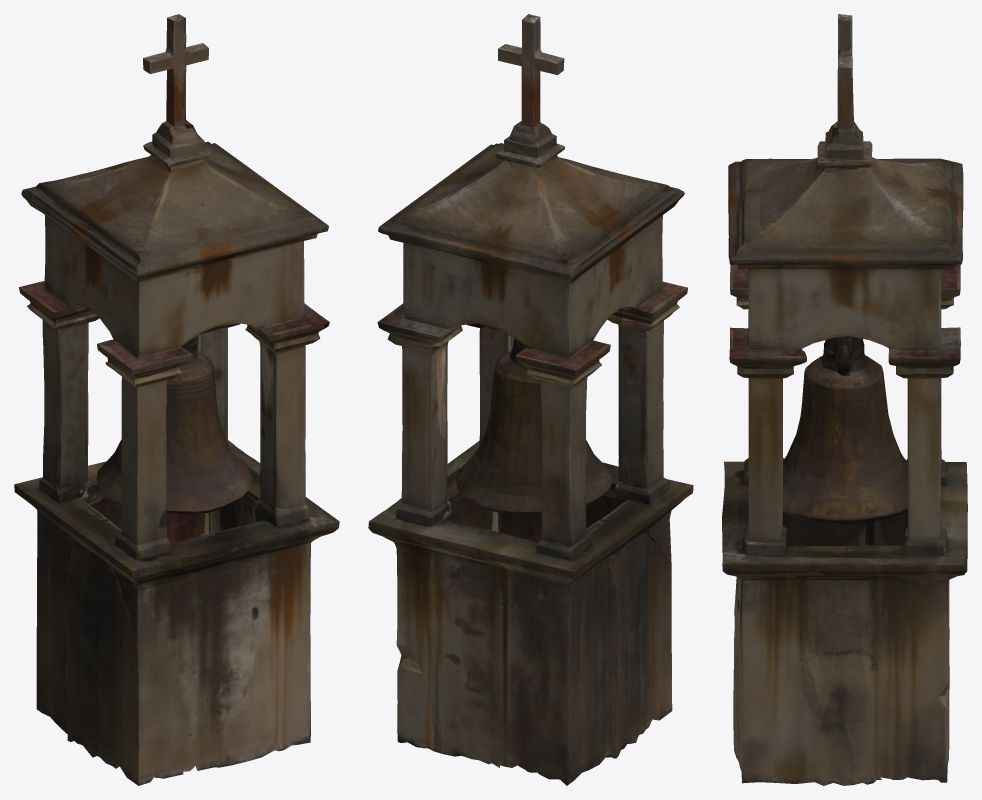
The model's file is The_Bell_of_Dusk_0509115838_texture.fbx.
3 renders of one model, left to right at view 1: azimuth 30°, elevation 25°; view 2: azimuth 150°, elevation 25°; view 3: azimuth 270°, elevation 25°, orthographic. The views are drawn at different scales.
Visible parts, largest first — view 1: temp; view 2: temp; view 3: temp.
Part boxes in pixels (x1,y1,x2,y2): temp: (14,14,339,785); temp: (368,14,693,785); temp: (722,14,967,785).
Bounding box in the file's own units: 60.98 × 200 × 61.44.
Materials: 1 (1 with a texture image).
